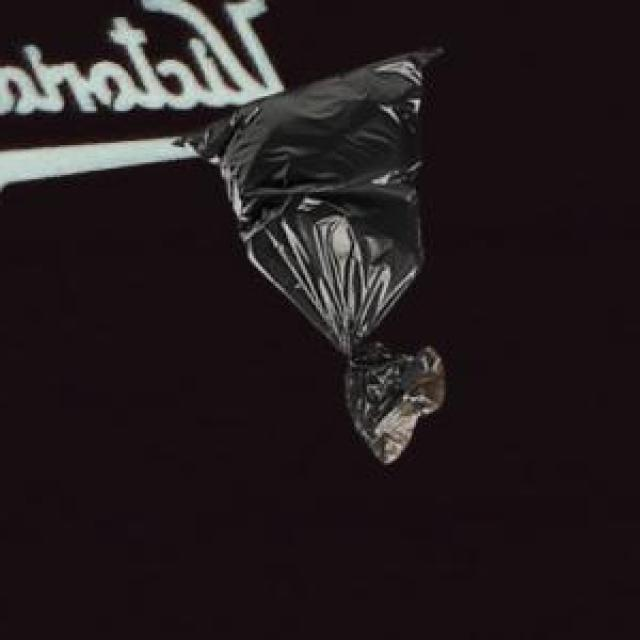Trashbag: (157, 41, 456, 468)
